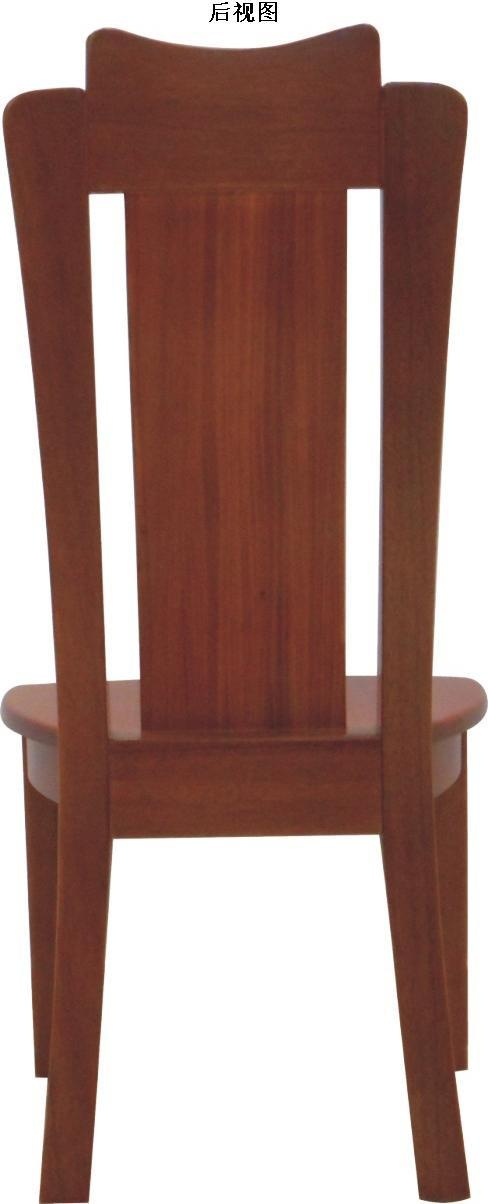obstacle: (4, 26, 483, 1203)
